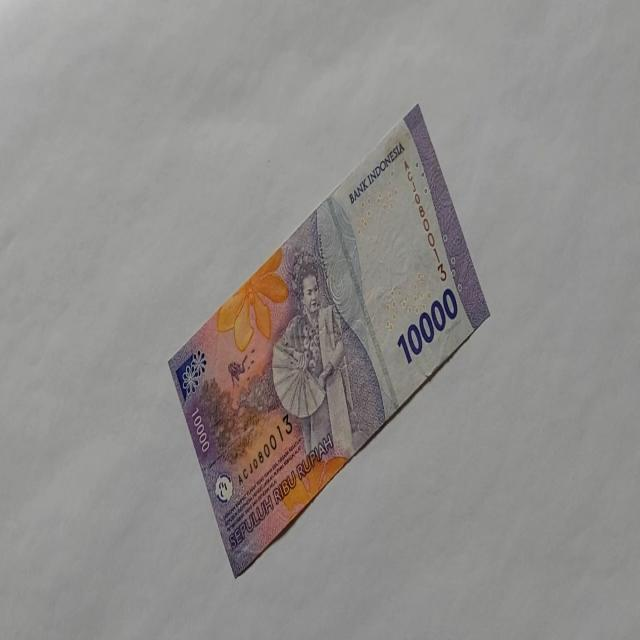sepuluh ribu rupiah: (167, 101, 490, 578), (396, 286, 458, 366), (346, 138, 406, 206)
